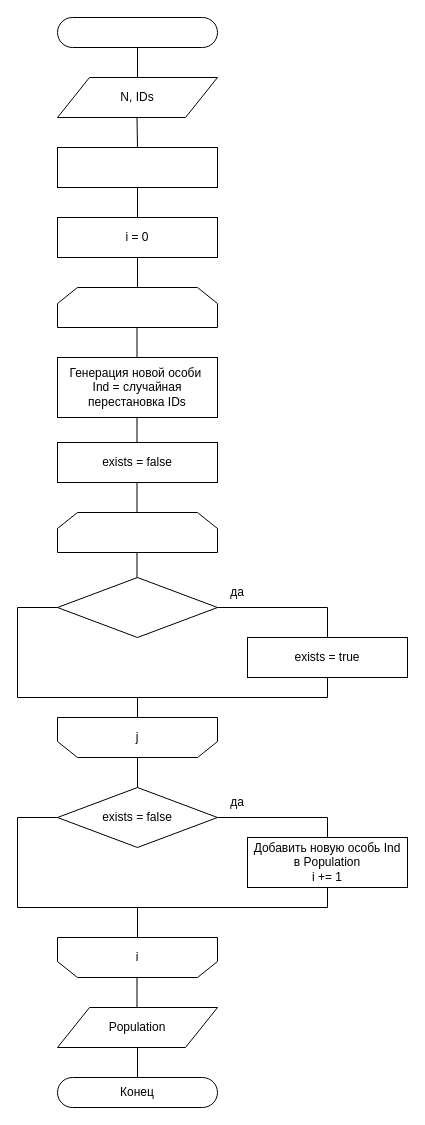
The diagram is 425 pixels wide and 1125 high, and some of its shapes have lost their labels. Each missing label, with the centre of its shape:
Cоздание пустого массива особей Population: (137,167)
Ind = Population[i]: (137,607)
Начало: (137,32)
Цикл j от 1 до i: (137,532)
Цикл пока i < N: (137,307)
